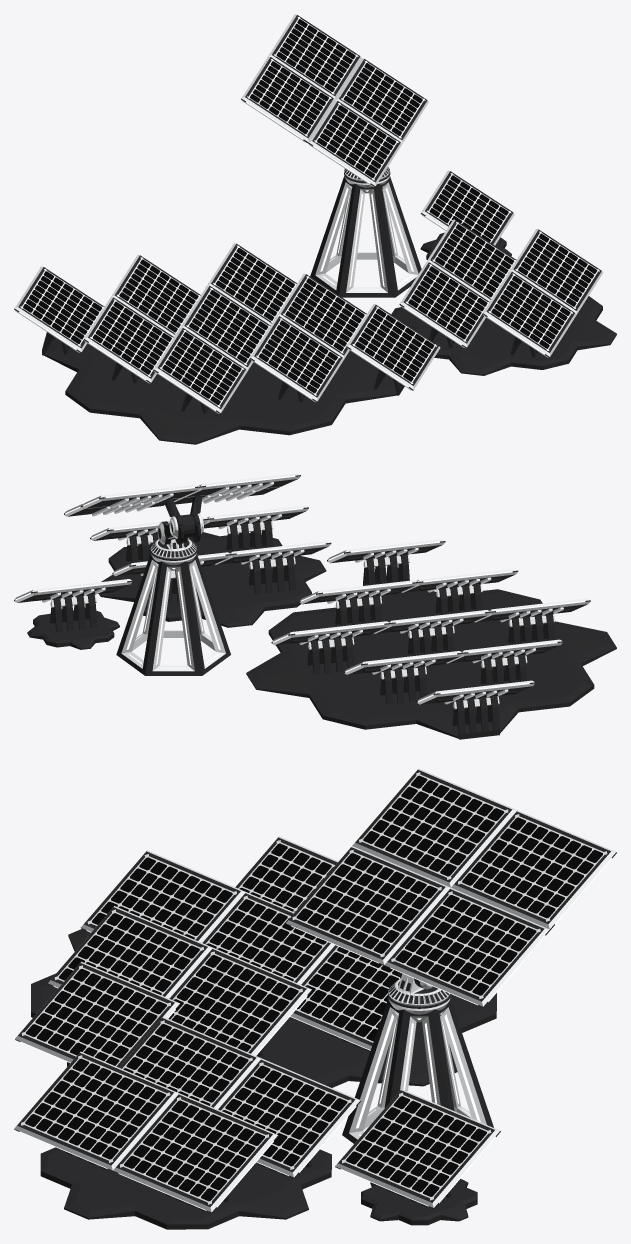
Rendered from solarpanel.glb.
3 views of the same model, one above another, from view 1: azimuth 30°, elevation 25°; view 2: azimuth 150°, elevation 25°; view 3: azimuth 270°, elevation 25° (orthographic). The views are drawn at different scales.
Parts seen in each view (by area): view 1: SolarPanelBigComplex_Foundation, SolarPanelTowerComplex_Foundation, SolarPanelComplex_Foundation, SolarPanel_Panel.007, SolarPanel_Panel.001, SolarPanel_Panel.011, SolarPanel_Panel.015, SolarPanel_Panel.017, SolarPanel_Panel.002, SolarPanel_Panel.005, SolarPanel_Panel.012, SolarPanel_Panel.014 (+9 smaller); view 2: SolarPanelBigComplex_Foundation, SolarPanelTowerComplex_Foundation, SolarPanelComplex_Foundation, SolarPanel_Foundation, SolarPanel_Body.008, SolarPanel_Body.001, SolarPanel_Body, SolarPanel_Body.006, SolarPanel_Body.009, SolarPanel_Body.011, SolarPanel_Body.013, SolarPanel_Panel.004 (+26 smaller); view 3: SolarPanelComplex_Foundation, SolarPanel_Panel.003, SolarPanel_Panel, SolarPanel_Panel.008, SolarPanel_Panel.004, SolarPanel_Panel.002, SolarPanel_Panel.007, SolarPanel_Panel.001, SolarPanelTowerComplex_Foundation, SolarPanel_Panel.015, SolarPanel_Panel.016, SolarPanel_Panel.006 (+9 smaller).
Boxes of the visible parts, x1,y1,x2,y2 form: SolarPanelBigComplex_Foundation: (44,337,396,444); SolarPanelTowerComplex_Foundation: (310,172,421,297); SolarPanelComplex_Foundation: (391,296,616,375); SolarPanel_Panel.007: (482,271,576,357); SolarPanel_Panel.001: (241,56,334,143); SolarPanel_Panel.011: (153,327,247,413); SolarPanel_Panel.015: (346,304,440,390); SolarPanel_Panel.017: (250,315,343,402); SolarPanel_Panel.002: (308,100,402,186); SolarPanel_Panel.005: (399,261,489,348); SolarPanel_Panel.012: (14,266,104,352); SolarPanel_Panel.014: (84,297,173,383); SolarPanelBigComplex_Foundation: (246,589,616,738); SolarPanelTowerComplex_Foundation: (116,549,230,675); SolarPanelComplex_Foundation: (99,532,326,627); SolarPanel_Foundation: (27,609,119,649); SolarPanel_Body.008: (435,690,517,739); SolarPanel_Body.001: (231,551,313,594); SolarPanel_Body: (33,589,114,632); SolarPanel_Body.006: (290,631,371,674); SolarPanel_Body.009: (363,661,444,704); SolarPanel_Body.011: (346,549,427,585); SolarPanel_Body.013: (418,579,499,614); SolarPanel_Panel.004: (82,484,200,508); SolarPanelComplex_Foundation: (40,1147,331,1229); SolarPanel_Panel.003: (384,888,550,1007); SolarPanel_Panel: (335,1089,500,1208); SolarPanel_Panel.008: (113,1093,278,1213); SolarPanel_Panel.004: (451,810,616,929); SolarPanel_Panel.002: (285,846,450,965); SolarPanel_Panel.007: (14,1051,179,1171); SolarPanel_Panel.001: (352,768,517,887); SolarPanelTowerComplex_Foundation: (342,993,493,1143); SolarPanel_Panel.015: (15,961,180,1067); SolarPanel_Panel.016: (168,947,312,1055); SolarPanel_Panel.006: (218,1058,360,1178).
Bounding box in the file's own units: 10390 × 4039 × 7762.
Materials: 1 (1 with a texture image).
